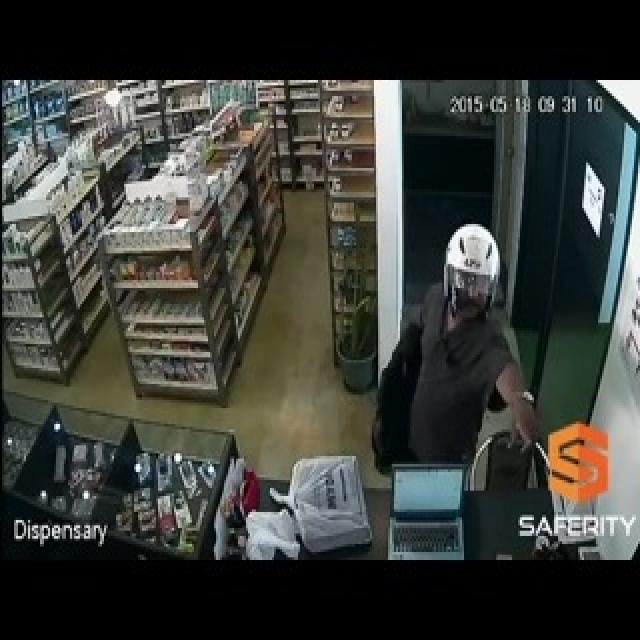thief: (378, 222, 532, 471)
